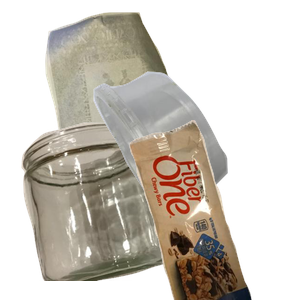glass: (19, 120, 184, 300)
paper: (43, 10, 221, 185)
plastic: (91, 69, 300, 249)
trash: (127, 120, 300, 300)
